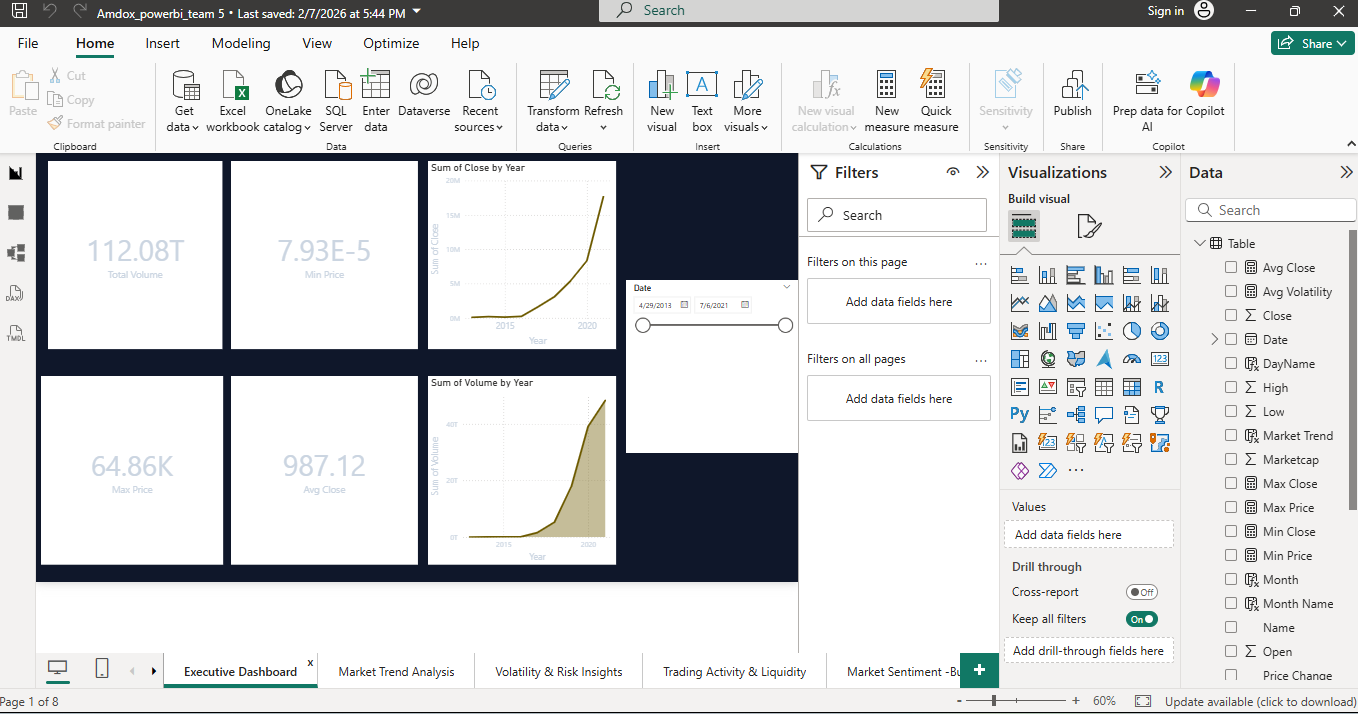

What the dashboard file says about the page in this screenshot:
{"tool":"powerbi","page":{"name":"Executive Dashboard","canvas":[1280,720],"ordinal":0},"visuals":[{"type":"card","fields":{"Values":["Table.Total Volume"]},"box":[20.8,13.2,292.9,315.6],"z":0},{"type":"card","fields":{"Values":["Table.Max Price"]},"box":[7.6,374.2,306.1,317.5],"z":1000},{"type":"card","fields":{"Values":["Table.Min Price"]},"box":[326.9,13.2,313.7,315.6],"z":2000},{"type":"card","fields":{"Values":["Table.Avg Close"]},"box":[326.9,374.2,313.7,317.5],"z":3000},{"type":"lineChart","fields":{"Category":["Table.Date.Variation.Date Hierarchy.Year","Table.Date.Variation.Date Hierarchy.Quarter","Table.Date.Variation.Date Hierarchy.Month","Table.Date.Variation.Date Hierarchy.Day"],"Y":["Sum(Table.Close)"]},"box":[657.6,13.2,315.6,315.6],"z":4000},{"type":"areaChart","fields":{"Category":["Table.Date.Variation.Date Hierarchy.Year","Table.Date.Variation.Date Hierarchy.Quarter","Table.Date.Variation.Date Hierarchy.Month","Table.Date.Variation.Date Hierarchy.Day"],"Y":["Sum(Table.Volume)"]},"box":[657.6,374.2,315.6,317.5],"z":5000},{"type":"slicer","fields":{"Values":["Table.Date"]},"box":[990.2,213.5,289.1,289.1],"z":6000}]}

Visuals, with their boxes on the page's 1280x720 design canvas (x1, y1, x2, y2). These are canvas units, not pixel positions in the 1358x714 screenshot, which may show the page scaled, cropped or inside an application window:
card - Table.Total Volume: select_region(21, 13, 314, 329)
card - Table.Max Price: select_region(8, 374, 314, 692)
card - Table.Min Price: select_region(327, 13, 641, 329)
card - Table.Avg Close: select_region(327, 374, 641, 692)
lineChart - Table.Date.Variation.Date Hierarchy.Year x Table.Date.Variation.Date Hierarchy.Quarter: select_region(658, 13, 973, 329)
areaChart - Table.Date.Variation.Date Hierarchy.Year x Table.Date.Variation.Date Hierarchy.Quarter: select_region(658, 374, 973, 692)
slicer - Table.Date: select_region(990, 214, 1279, 503)
